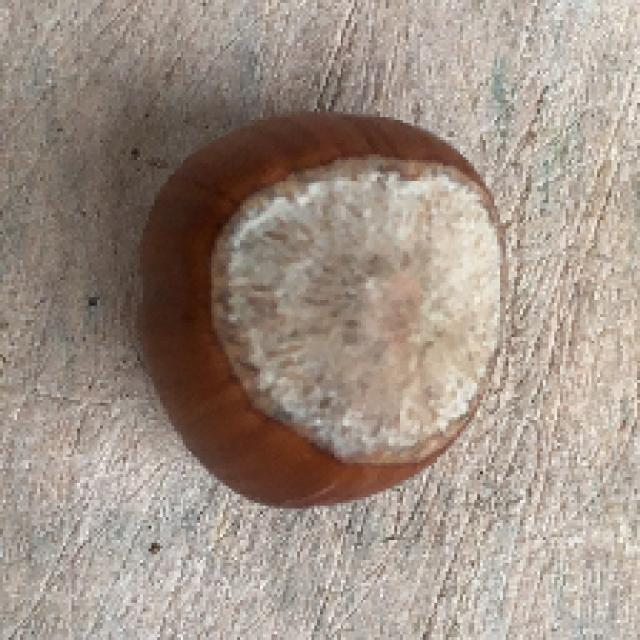qualityHazelnut: (123, 106, 515, 510)
